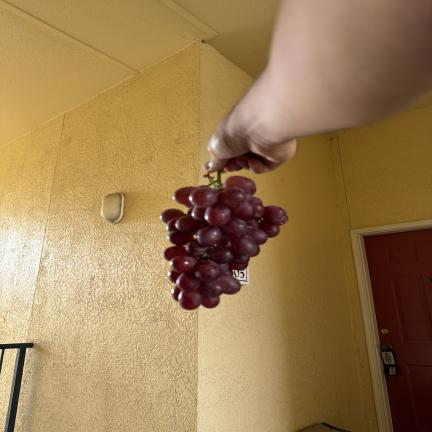grape_cluster: (160, 172, 288, 310)
